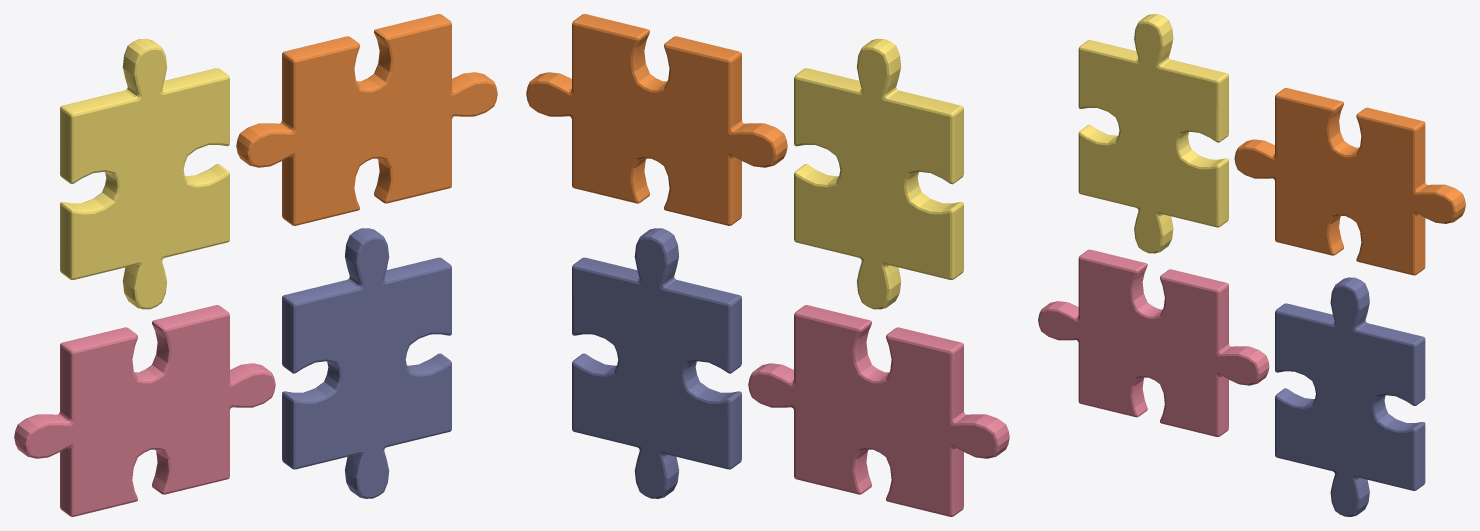
File: puzzle frames.fbx
3 views of the same model, side by side, from view 1: azimuth 30°, elevation 25°; view 2: azimuth 150°, elevation 25°; view 3: azimuth 330°, elevation 25° (orthographic). The views are drawn at different scales.
Parts seen in each view (by area): view 1: puzzle frames; view 2: puzzle frames; view 3: puzzle frames.
Part boxes in pixels (x1,y1,x2,y2): puzzle frames: (14,14,497,516); puzzle frames: (526,14,1009,516); puzzle frames: (1038,14,1465,516).
Bounding box in the file's own units: 170 × 173 × 7.79.
Materials: 1 (1 with a texture image).
